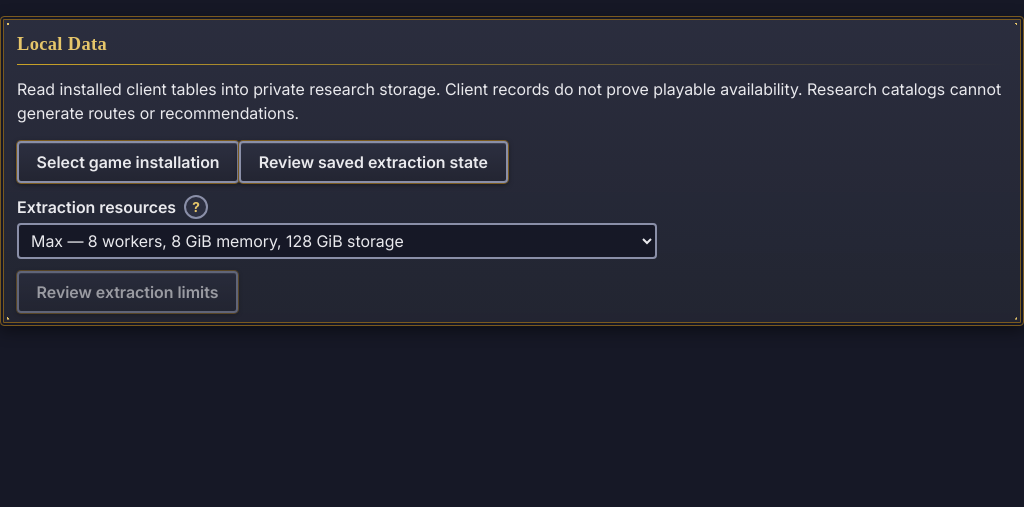
Scenario: offers cancellation during fingerprint preparation and does not offer resume or forgetting
Click the button "Review saved extraction state": (373, 162) [239,141,508,183]
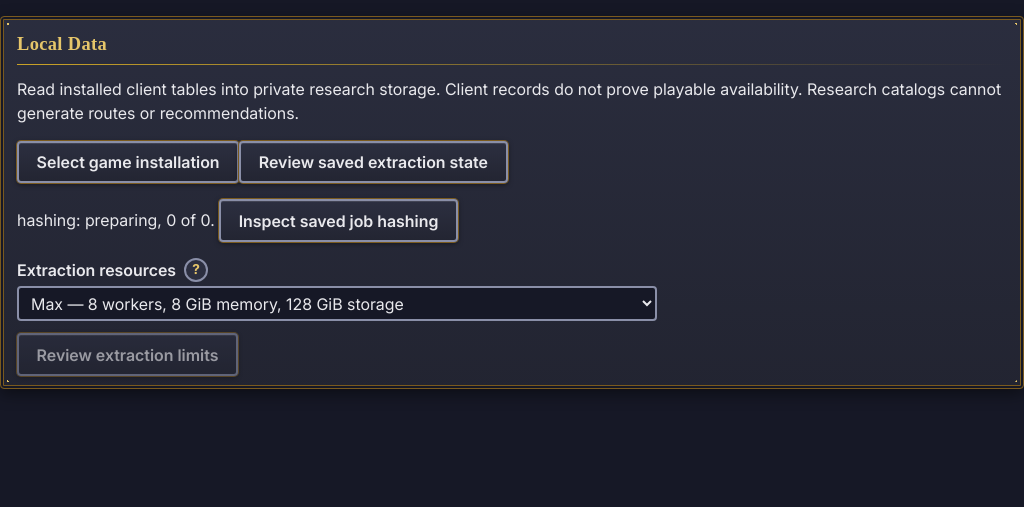
Click the button "Inspect saved job hashing": (339, 221) [219,199,458,242]
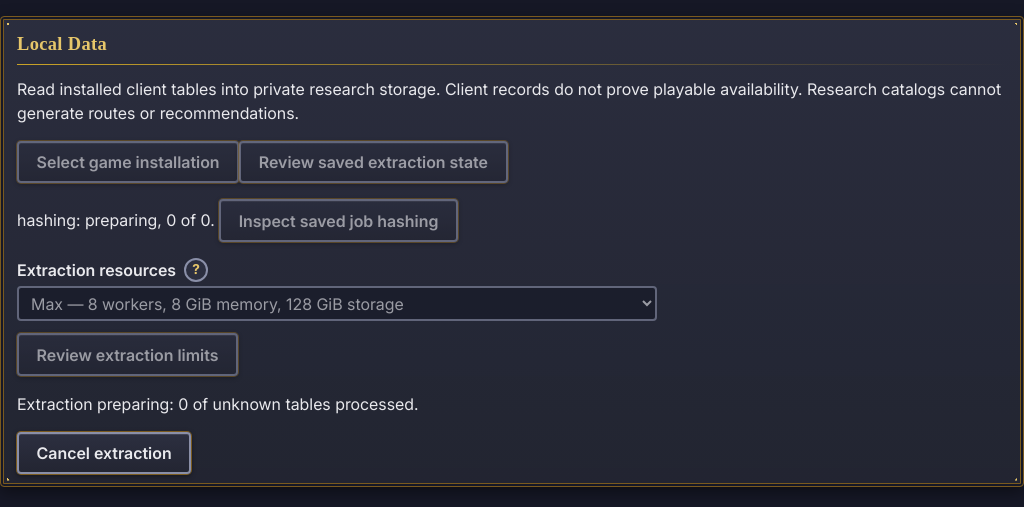
Expected: the button "Resume unchanged extraction" is not shown
Result: the text "Extraction preparing: 0 of unknown tables processed." is shown at [17,394,418,414]
Click the button "Cancel extraction": (104, 453) [17,432,191,474]
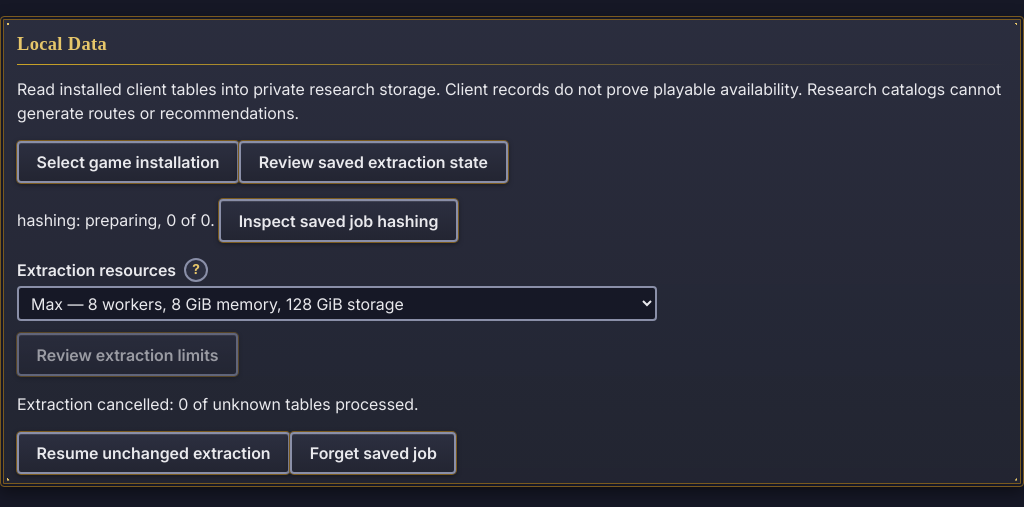
Result: the text "Extraction cancelled: 0 of unknown tables processed." is shown at [17,394,418,414]
